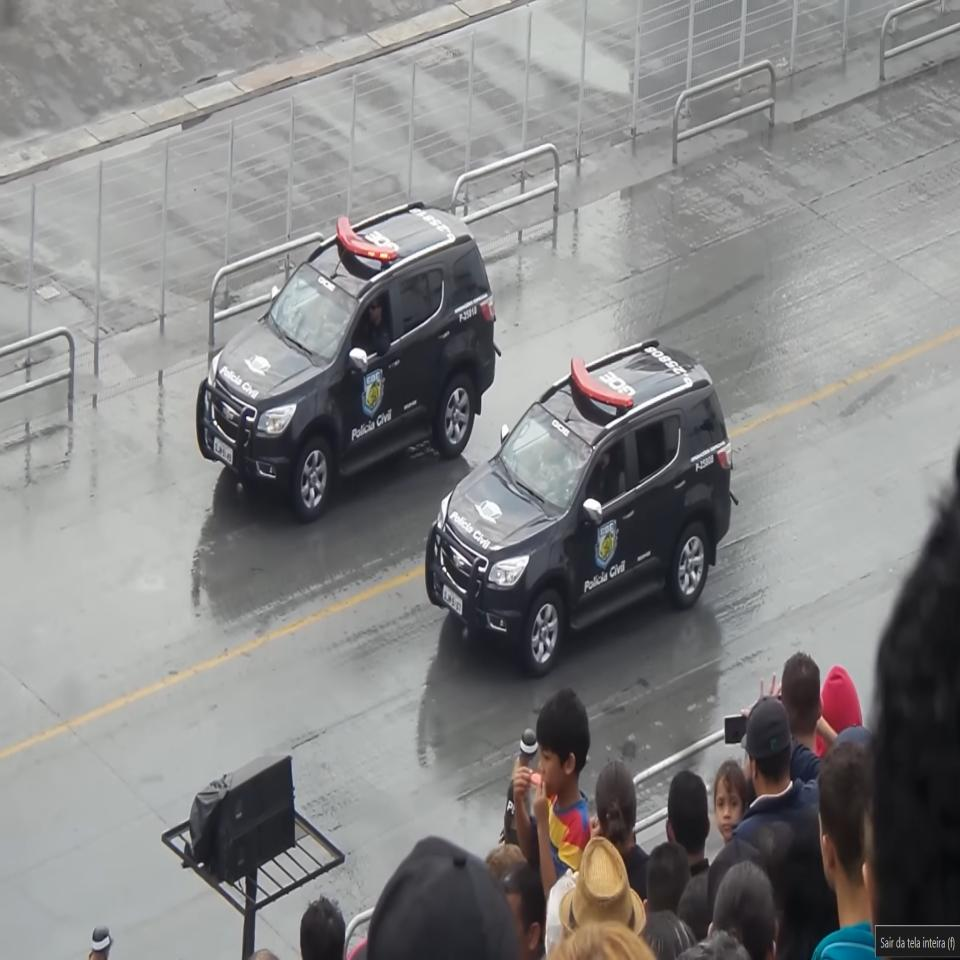viatura: (424, 342, 743, 675), (196, 202, 503, 523)
